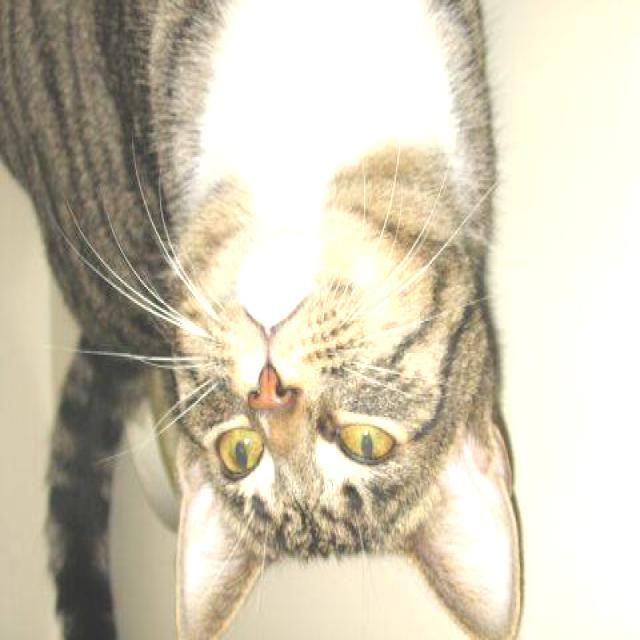Kucing: (17, 33, 627, 638)
